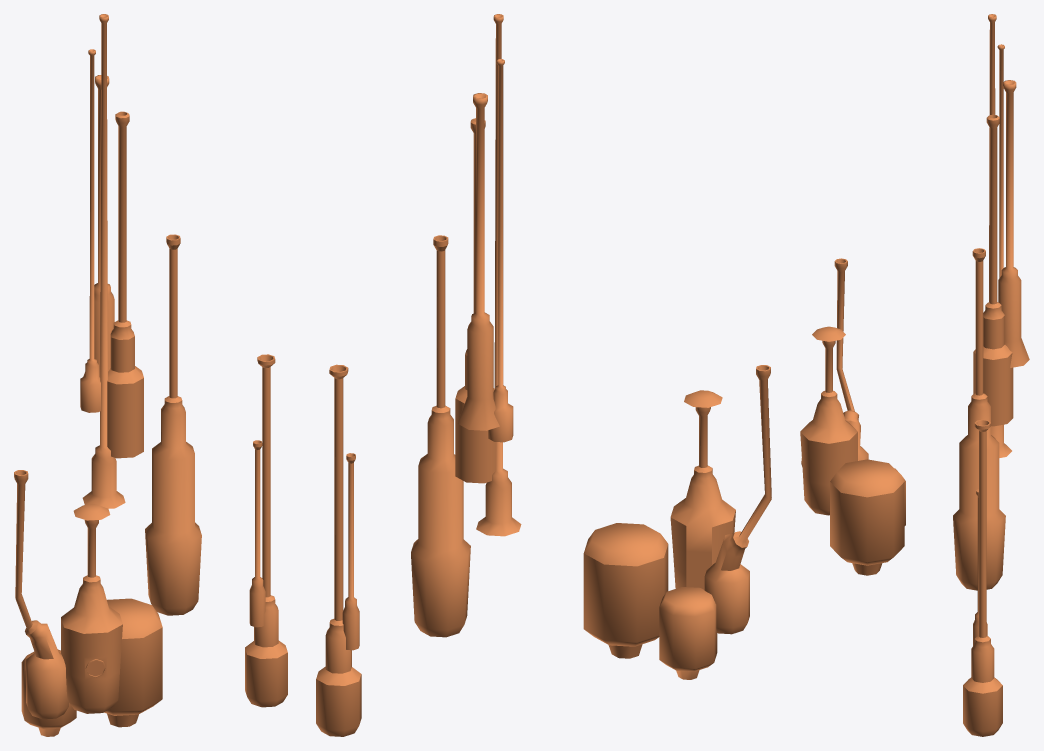
Rendered from cuivre 02.fbx.
3 views of the same model, side by side, from view 1: azimuth 30°, elevation 25°; view 2: azimuth 150°, elevation 25°; view 3: azimuth 270°, elevation 25° (orthographic). The views are drawn at different scales.
Parts seen in each view (by area): view 1: Circle.061, Circle.054, Circle.063, Circle.050, Circle.053, Circle.065, Circle.052, Circle.064, Circle.062, Circle.046, Circle.057; view 2: Circle.061, Circle.053, Circle.050, Circle.054, Circle.062, Circle.052, Circle.057, Circle.065, Circle.063, Circle.064, Circle.046; view 3: Circle.061, Circle.053, Circle.054, Circle.063, Circle.050, Circle.062, Circle.052, Circle.065, Circle.064, Circle.046.
Part boxes in pixels (<box>): Circle.061: <box>145,234,201,615</box>; Circle.054: <box>61,504,122,713</box>; Circle.063: <box>107,111,143,458</box>; Circle.050: <box>245,354,287,707</box>; Circle.053: <box>104,598,162,727</box>; Circle.065: <box>82,14,125,508</box>; Circle.052: <box>14,470,68,719</box>; Circle.064: <box>80,49,100,412</box>; Circle.062: <box>83,75,114,377</box>; Circle.046: <box>249,440,265,627</box>; Circle.057: <box>21,649,76,736</box>; Circle.061: <box>411,235,470,637</box>; Circle.053: <box>583,523,668,658</box>; Circle.050: <box>316,364,361,736</box>; Circle.054: <box>670,390,735,589</box>; Circle.062: <box>458,93,499,430</box>; Circle.052: <box>704,365,771,634</box>; Circle.057: <box>659,587,717,679</box>; Circle.065: <box>476,14,521,536</box>; Circle.063: <box>455,118,495,483</box>; Circle.064: <box>488,59,513,442</box>; Circle.046: <box>342,453,359,650</box>; Circle.061: <box>953,248,1005,590</box>; Circle.053: <box>830,459,904,575</box>; Circle.054: <box>800,326,857,515</box>; Circle.063: <box>973,114,1013,426</box>; Circle.050: <box>963,419,1002,736</box>; Circle.062: <box>998,80,1029,367</box>; Circle.052: <box>834,258,868,460</box>; Circle.065: <box>988,14,1011,457</box>; Circle.064: <box>997,44,1004,277</box>; Circle.046: <box>973,489,987,645</box>.
Size of the model in its own units: 48.83 by 95.87 by 30.9.
